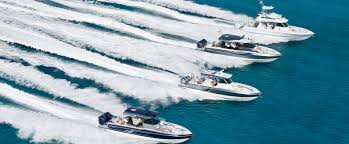boat: (98, 106, 193, 144), (233, 5, 317, 42), (178, 70, 265, 101), (198, 32, 283, 63)
